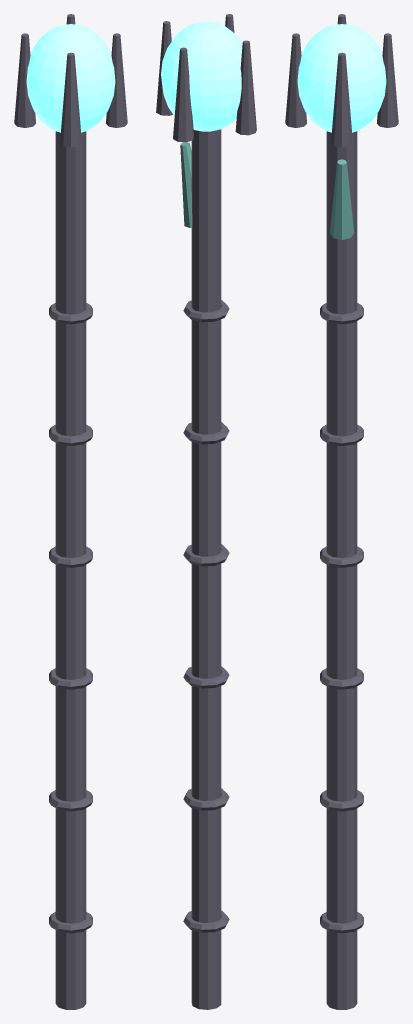
Rendered from xx_sage_staff_3d.glb.
3 renders of one model, left to right at view 1: azimuth 90°, elevation 25°; view 2: azimuth 150°, elevation 25°; view 3: azimuth 270°, elevation 25°, orthographic.
Visible parts, largest first — view 1: staff_shaft, staff_gem, prong_2, prong_1, prong_3, twist_1, twist_2, twist_0, twist_3, twist_5, twist_4; view 2: staff_shaft, staff_gem, prong_1, prong_2, tassel, prong_0, twist_3, twist_2, twist_4, twist_1, twist_0, twist_5; view 3: staff_shaft, staff_gem, prong_0, tassel, prong_1, prong_3, twist_1, twist_2, twist_0, twist_3, twist_5, twist_4.
Boxes of the visible parts, bbox=[...] form: staff_shaft: bbox=[55, 131, 86, 1009]; staff_gem: bbox=[26, 24, 115, 132]; prong_2: bbox=[60, 52, 81, 147]; prong_1: bbox=[14, 33, 35, 127]; prong_3: bbox=[106, 33, 127, 127]; twist_1: bbox=[49, 790, 92, 811]; twist_2: bbox=[49, 668, 92, 689]; twist_0: bbox=[49, 912, 92, 933]; twist_3: bbox=[49, 546, 92, 567]; twist_5: bbox=[49, 303, 92, 324]; twist_4: bbox=[49, 424, 92, 445]; staff_shaft: bbox=[191, 129, 221, 1009]; staff_gem: bbox=[161, 21, 242, 131]; prong_1: bbox=[173, 47, 193, 142]; prong_2: bbox=[235, 40, 256, 135]; tassel: bbox=[180, 142, 192, 227]; prong_0: bbox=[156, 21, 172, 115]; twist_3: bbox=[183, 544, 229, 566]; twist_2: bbox=[183, 666, 229, 688]; twist_4: bbox=[183, 422, 229, 444]; twist_1: bbox=[183, 788, 229, 810]; twist_0: bbox=[183, 910, 229, 932]; twist_5: bbox=[183, 300, 229, 322]; staff_shaft: bbox=[326, 131, 357, 1009]; staff_gem: bbox=[297, 24, 386, 132]; prong_0: bbox=[331, 52, 352, 147]; tassel: bbox=[330, 159, 353, 239]; prong_1: bbox=[377, 33, 398, 127]; prong_3: bbox=[285, 33, 306, 127]; twist_1: bbox=[320, 790, 363, 811]; twist_2: bbox=[320, 668, 363, 689]; twist_0: bbox=[320, 912, 363, 933]; twist_3: bbox=[320, 546, 363, 567]; twist_5: bbox=[320, 303, 363, 324]; twist_4: bbox=[320, 424, 363, 445].
Size of the model in its own units: 0.186 by 1.76 by 0.186.
